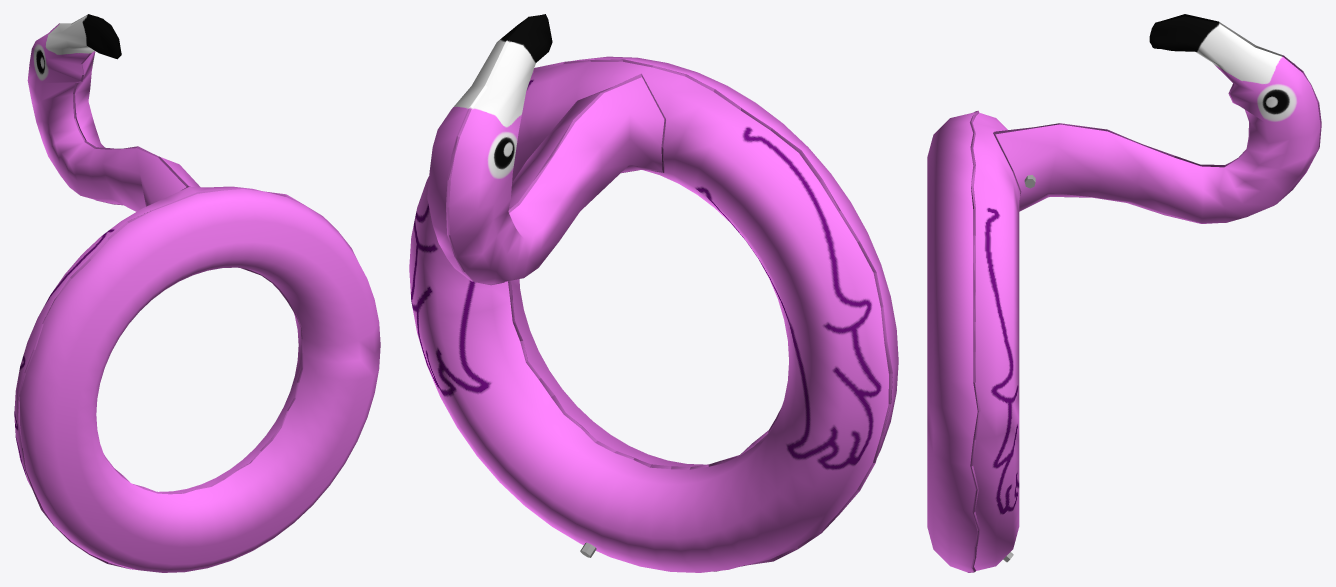
The model's file is PinkArtefact.fbx.
3 renders of one model, left to right at view 1: azimuth 30°, elevation 25°; view 2: azimuth 150°, elevation 25°; view 3: azimuth 270°, elevation 25°, orthographic. The views are drawn at different scales.
Parts seen in each view (by area): view 1: Torus; view 2: Torus; view 3: Torus.
Part boxes in pixels (x1,y1,x2,y2): Torus: (14, 14, 380, 572); Torus: (409, 14, 898, 572); Torus: (927, 14, 1321, 572).
Bounding box in the file's own units: 252 × 323 × 214.
1 material, 1 textured.
